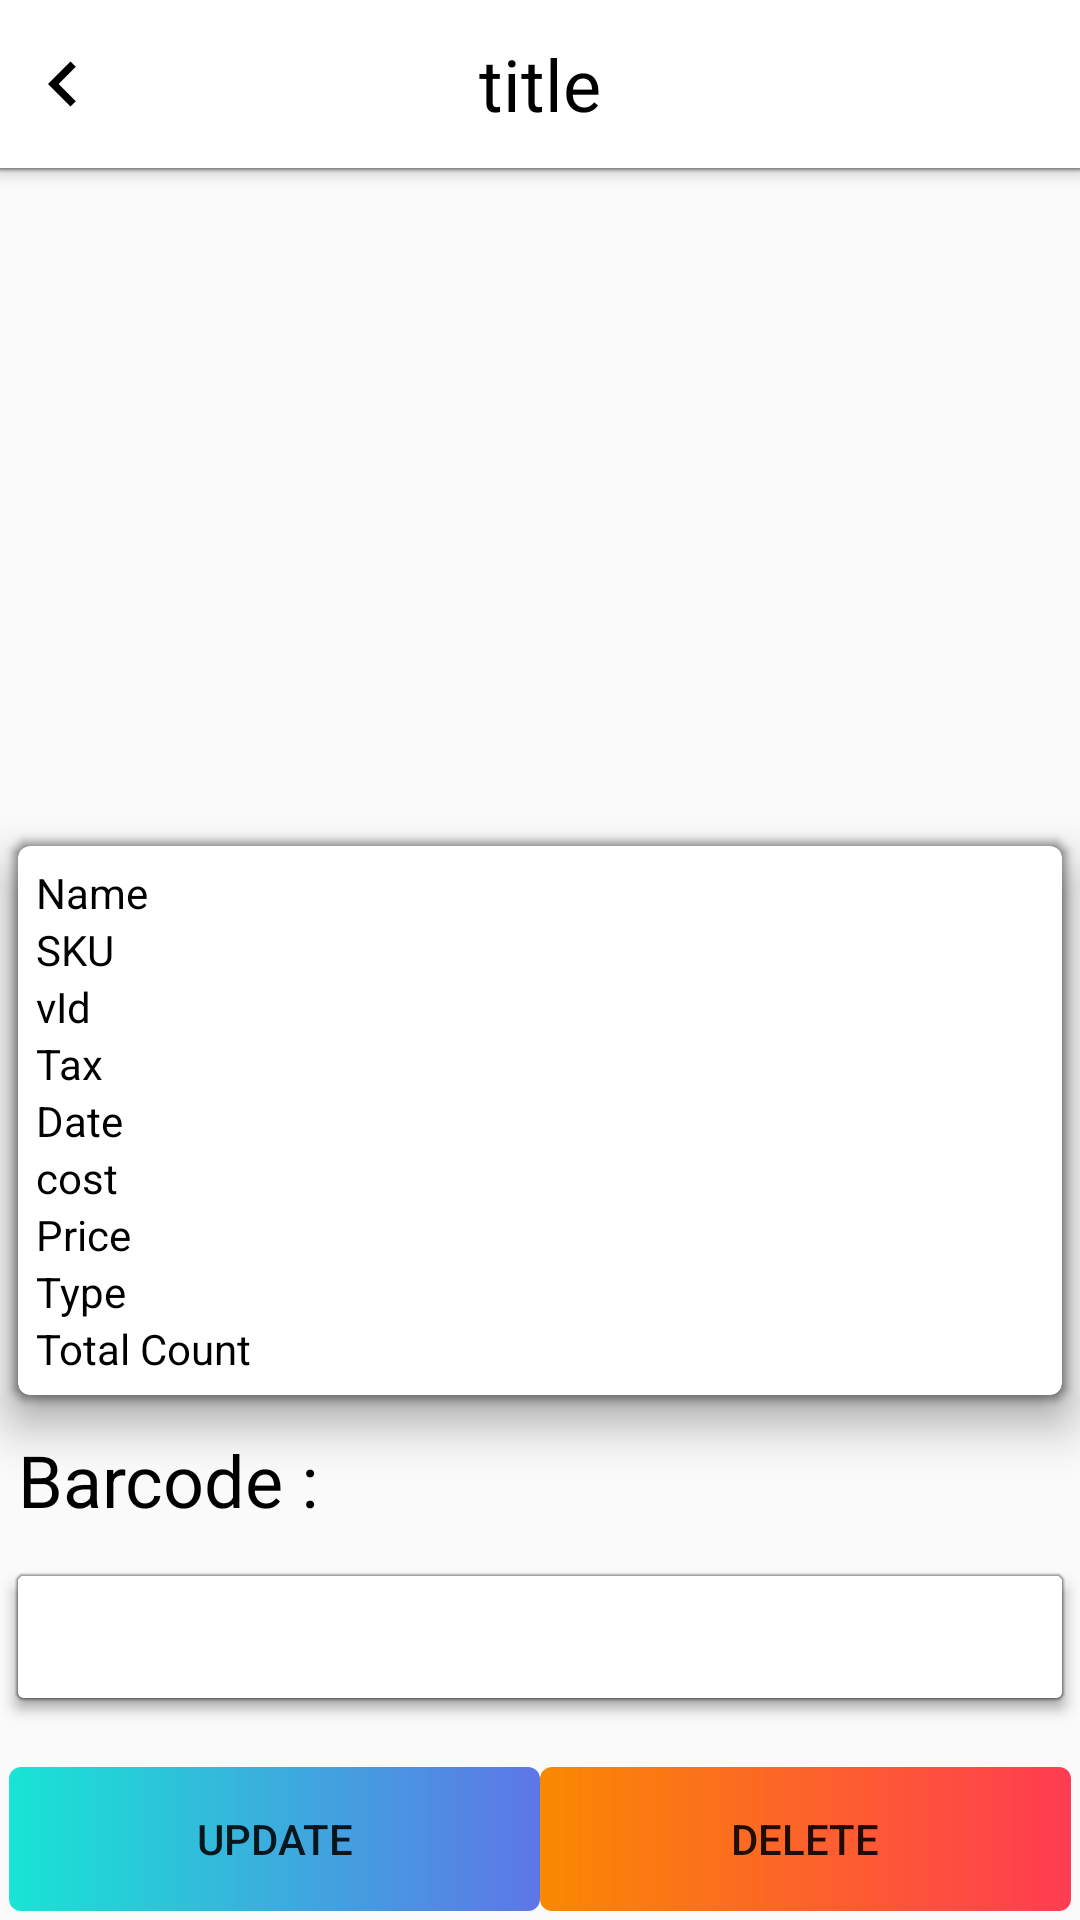

Screen size 1080px×1920px. Icon name, then its box in pixels as (x1, y1, x2, y2):
navigate before: (48, 61, 76, 107)
